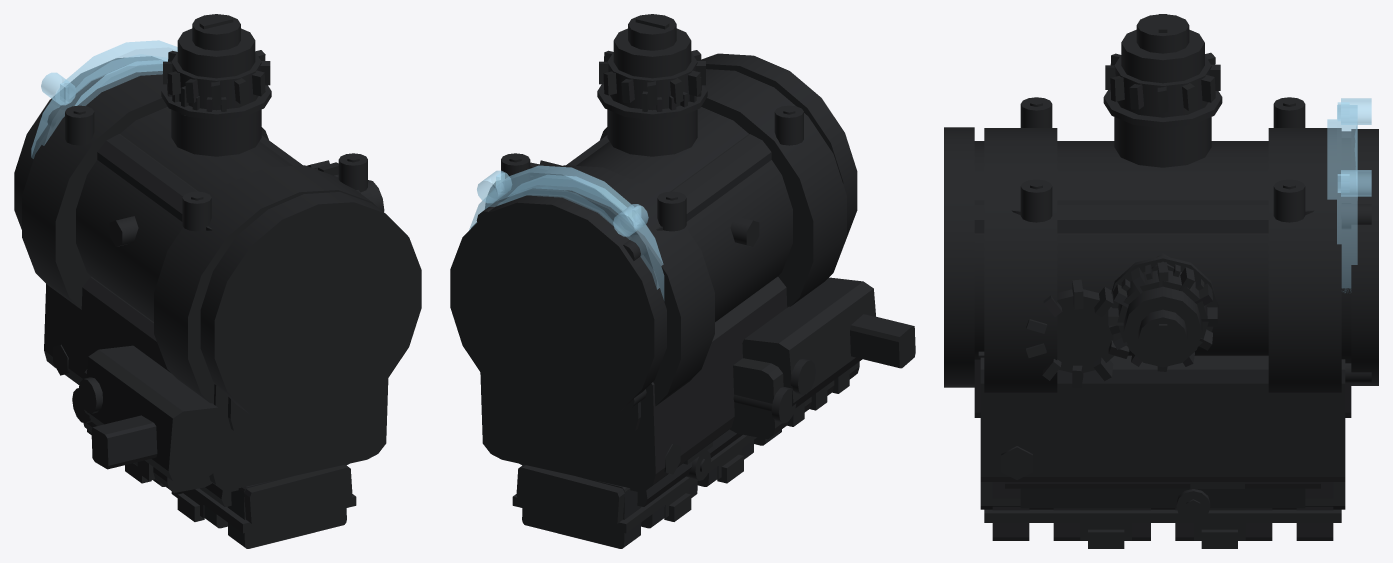
File: attachment_marksman_reddot.glb
3 views of the same model, side by side, from view 1: azimuth 30°, elevation 25°; view 2: azimuth 150°, elevation 25°; view 3: azimuth 270°, elevation 25° (orthographic). The views are drawn at different scales.
Visible parts, largest first — view 1: attachment_marksman_reddot__marksman_reddot__marksman_reddot (×3); view 2: attachment_marksman_reddot__marksman_reddot__marksman_reddot (×3); view 3: attachment_marksman_reddot__marksman_reddot__marksman_reddot (×3).
Boxes of the visible parts, <box> form: attachment_marksman_reddot__marksman_reddot__marksman_reddot (×3): <box>14,14,421,548</box>; attachment_marksman_reddot__marksman_reddot__marksman_reddot (×3): <box>450,14,915,548</box>; attachment_marksman_reddot__marksman_reddot__marksman_reddot (×3): <box>944,14,1378,548</box>.
Size of the model in its own units: 0.0706 by 0.0903 by 0.0715.
